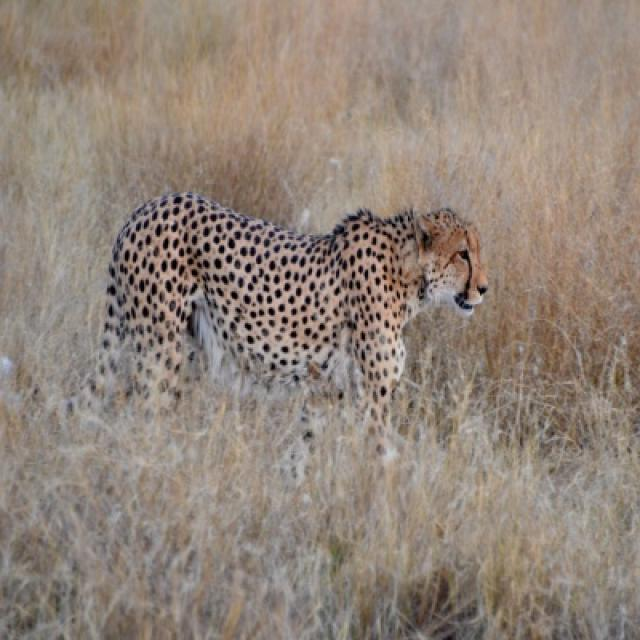Cheetah: (106, 194, 483, 410)
